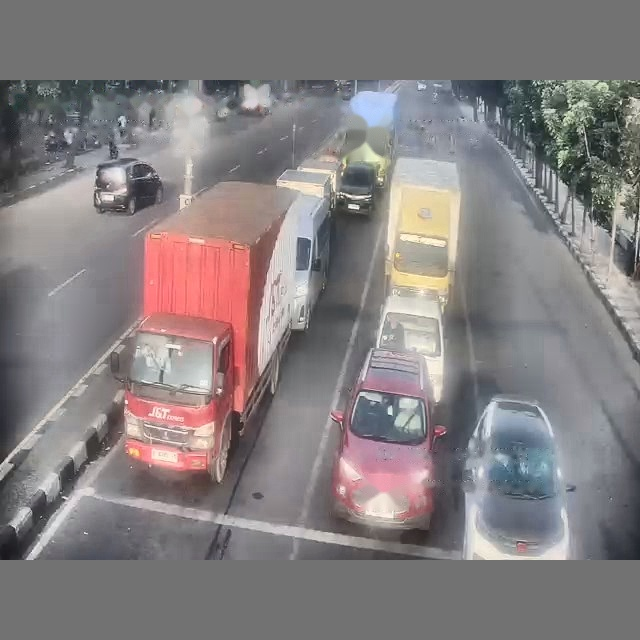Mobil: (330, 348, 446, 530), (462, 395, 574, 559), (376, 295, 444, 403), (94, 158, 162, 214), (336, 162, 376, 214), (417, 81, 426, 90)
Truk: (110, 181, 301, 482), (385, 157, 460, 308)
